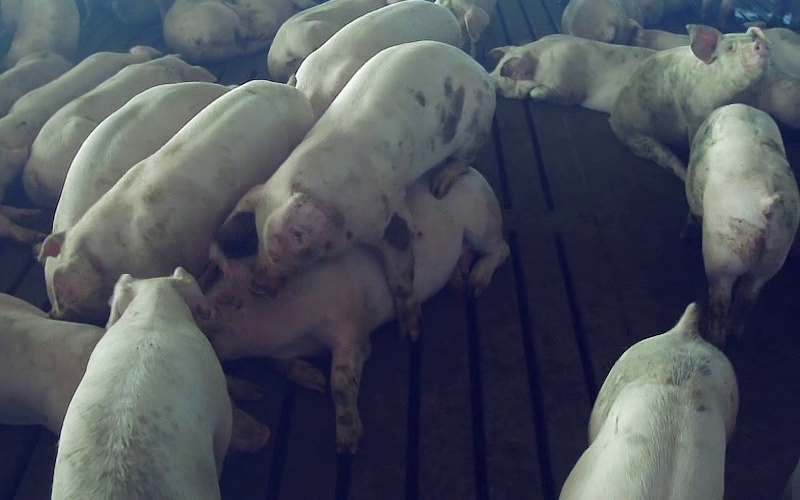pig: (41, 80, 313, 320), (52, 269, 231, 499), (560, 303, 737, 499), (23, 55, 214, 206), (686, 104, 799, 345), (610, 26, 768, 178), (295, 0, 461, 118), (0, 45, 160, 148), (491, 34, 653, 112)
